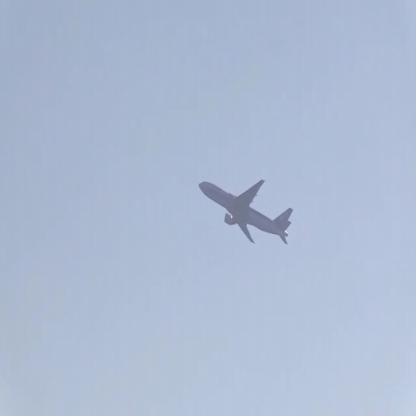CIV_Plane: (199, 180, 294, 244)
